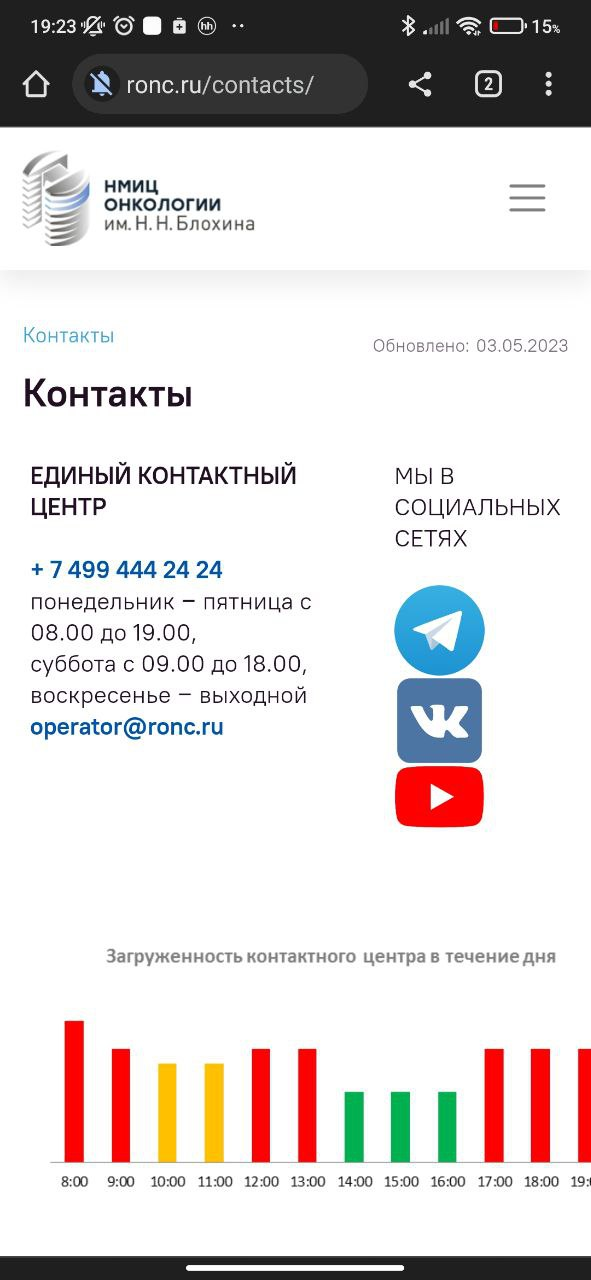burger_menu: (504, 177, 548, 214)
